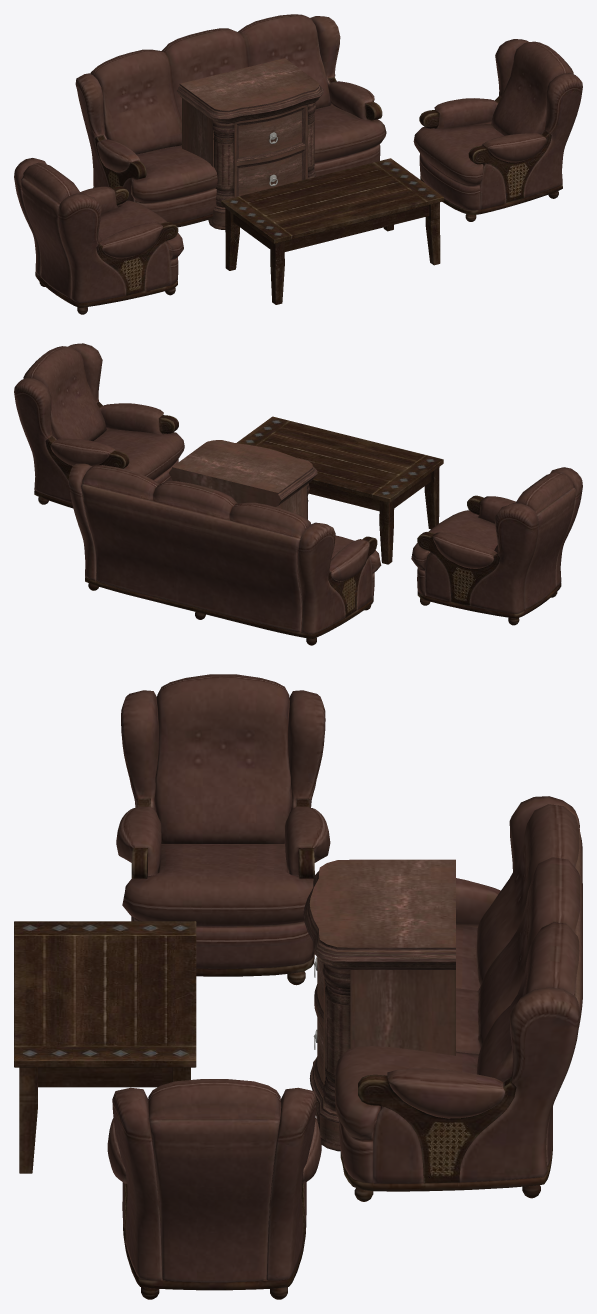
Rendered from world.glb.
3 renders of one model, top to bottom at view 1: azimuth 30°, elevation 25°; view 2: azimuth 150°, elevation 25°; view 3: azimuth 270°, elevation 25°, orthographic. The views are drawn at different scales.
Parts seen in each view (by area): view 1: sofa_classic_ch_models__textile_0, armchair_classic_ch_models_armchair_classic_ch_models_01_tex, Dresser_01, table_low, armchair_classic_ch_models_armchair_classic_ch_models_textil, armchair_classic_ch_models_armchair_classic_ch_models_01_woo, armchair_classic_ch_models_armchair_classic_ch_models_wood_0, sofa_classic_ch_models__wood_0; view 2: sofa_classic_ch_models__textile_0, armchair_classic_ch_models_armchair_classic_ch_models_textil, armchair_classic_ch_models_armchair_classic_ch_models_01_tex, table_low, Dresser_01, armchair_classic_ch_models_armchair_classic_ch_models_wood_0, sofa_classic_ch_models__wood_0, armchair_classic_ch_models_armchair_classic_ch_models_01_woo; view 3: armchair_classic_ch_models_armchair_classic_ch_models_textil, sofa_classic_ch_models__textile_0, armchair_classic_ch_models_armchair_classic_ch_models_01_tex, table_low, Dresser_01, sofa_classic_ch_models__wood_0, armchair_classic_ch_models_armchair_classic_ch_models_wood_0, armchair_classic_ch_models_armchair_classic_ch_models_01_woo.
Boxes of the visible parts, x1,y1,x2,y2 form: sofa_classic_ch_models__textile_0: (75,14,386,223); armchair_classic_ch_models_armchair_classic_ch_models_01_tex: (413,39,582,210); Dresser_01: (176,58,323,229); table_low: (221,158,444,304); armchair_classic_ch_models_armchair_classic_ch_models_textil: (14,158,183,303); armchair_classic_ch_models_armchair_classic_ch_models_01_woo: (419,96,562,221); armchair_classic_ch_models_armchair_classic_ch_models_wood_0: (35,186,178,314); sofa_classic_ch_models__wood_0: (93,77,382,227); sofa_classic_ch_models__textile_0: (68,463,381,634); armchair_classic_ch_models_armchair_classic_ch_models_textil: (411,467,582,613); armchair_classic_ch_models_armchair_classic_ch_models_01_tex: (14,343,184,503); table_low: (236,416,443,564); Dresser_01: (169,440,317,519); armchair_classic_ch_models_armchair_classic_ch_models_wood_0: (417,495,561,625); sofa_classic_ch_models__wood_0: (85,536,377,645); armchair_classic_ch_models_armchair_classic_ch_models_01_woo: (34,401,178,508); armchair_classic_ch_models_armchair_classic_ch_models_textil: (116,674,330,968); sofa_classic_ch_models__textile_0: (335,796,582,1183); armchair_classic_ch_models_armchair_classic_ch_models_01_tex: (107,1079,321,1282); table_low: (14,921,196,1173); Dresser_01: (303,859,455,1151); sofa_classic_ch_models__wood_0: (340,1074,552,1201); armchair_classic_ch_models_armchair_classic_ch_models_wood_0: (131,798,314,985); armchair_classic_ch_models_armchair_classic_ch_models_01_woo: (123,1183,306,1299).
Size of the model in its own units: 387 by 97.48 by 215.
29 materials, 24 textured.
